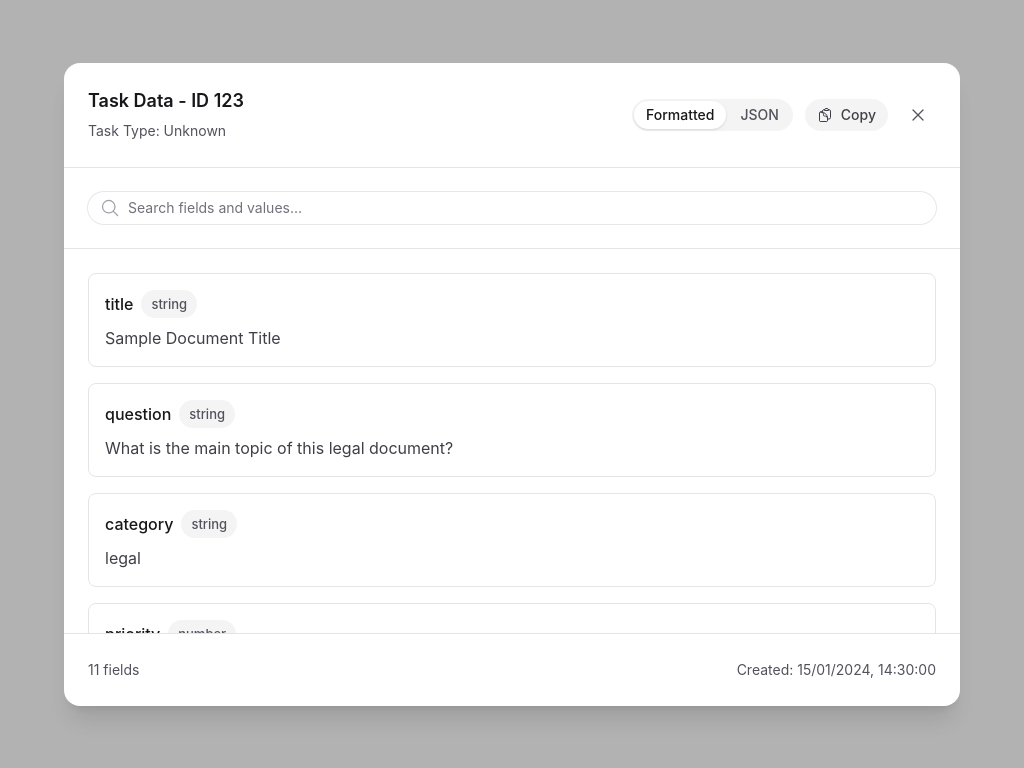
Test: TaskDataViewModal › should handle search in formatted view
This screenshot has width=1024, height=768.
Type "legal" into the search field with placeholder "Search fields and values..." at (512, 208), box [88,192,936,224]
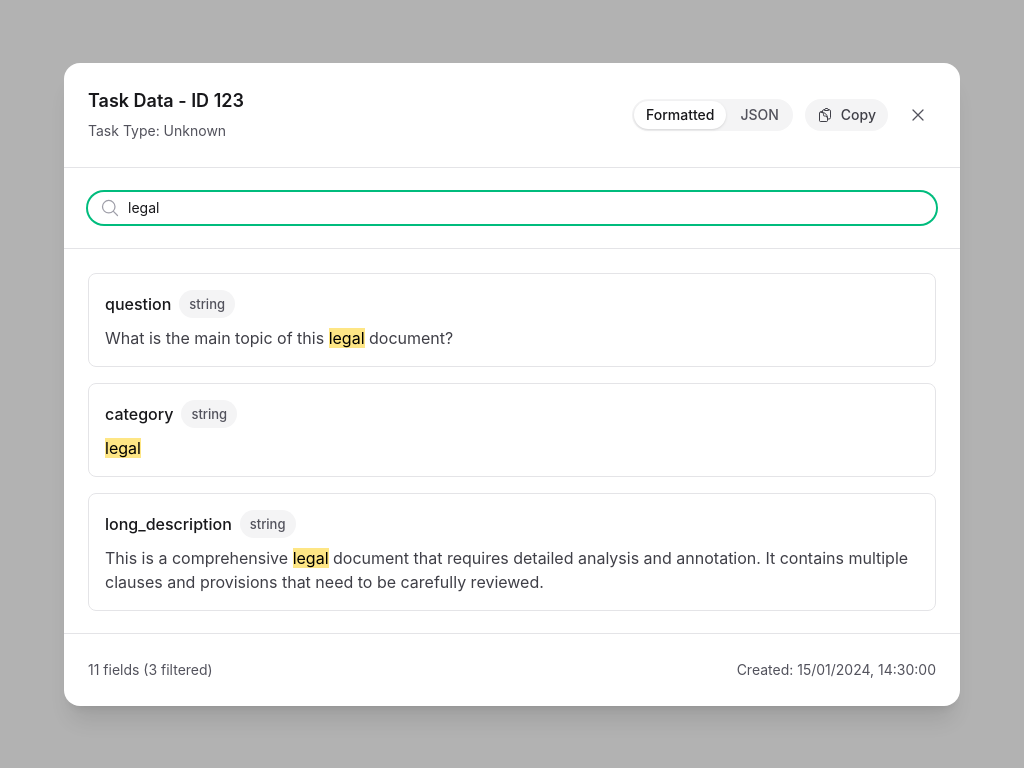
Expected: the text "category" is shown, [105,402,173,426]
Now the text "priority" is gone
